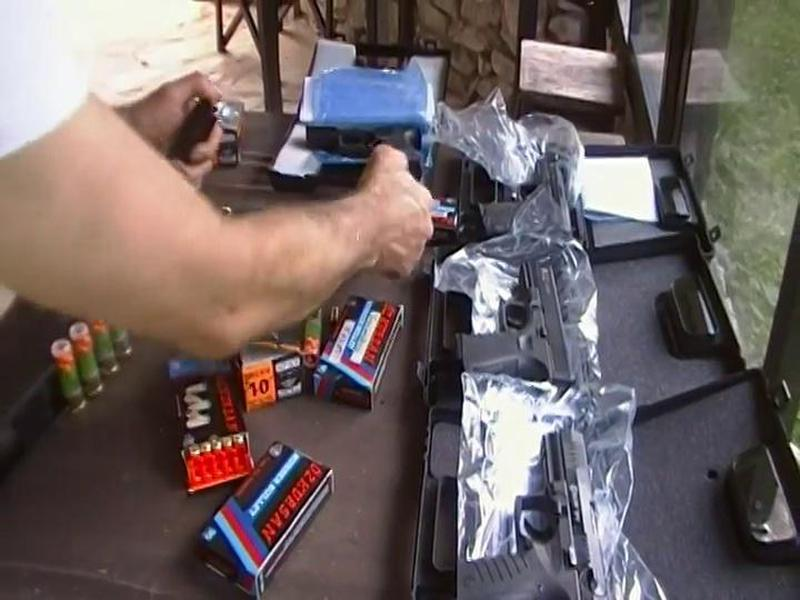Pistola: (425, 423, 613, 600), (452, 254, 589, 410)
